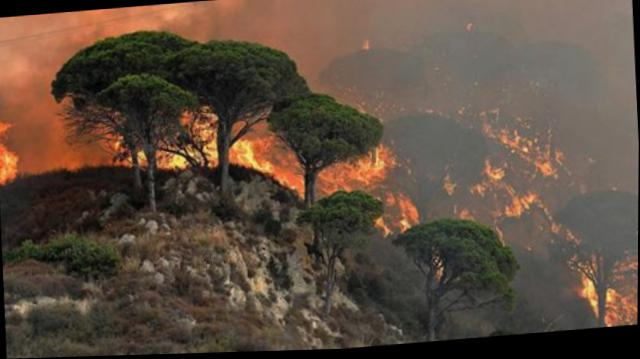fire: (434, 85, 562, 254), (318, 131, 416, 245), (105, 110, 221, 172), (231, 115, 307, 201), (582, 257, 637, 330), (0, 116, 23, 183)
